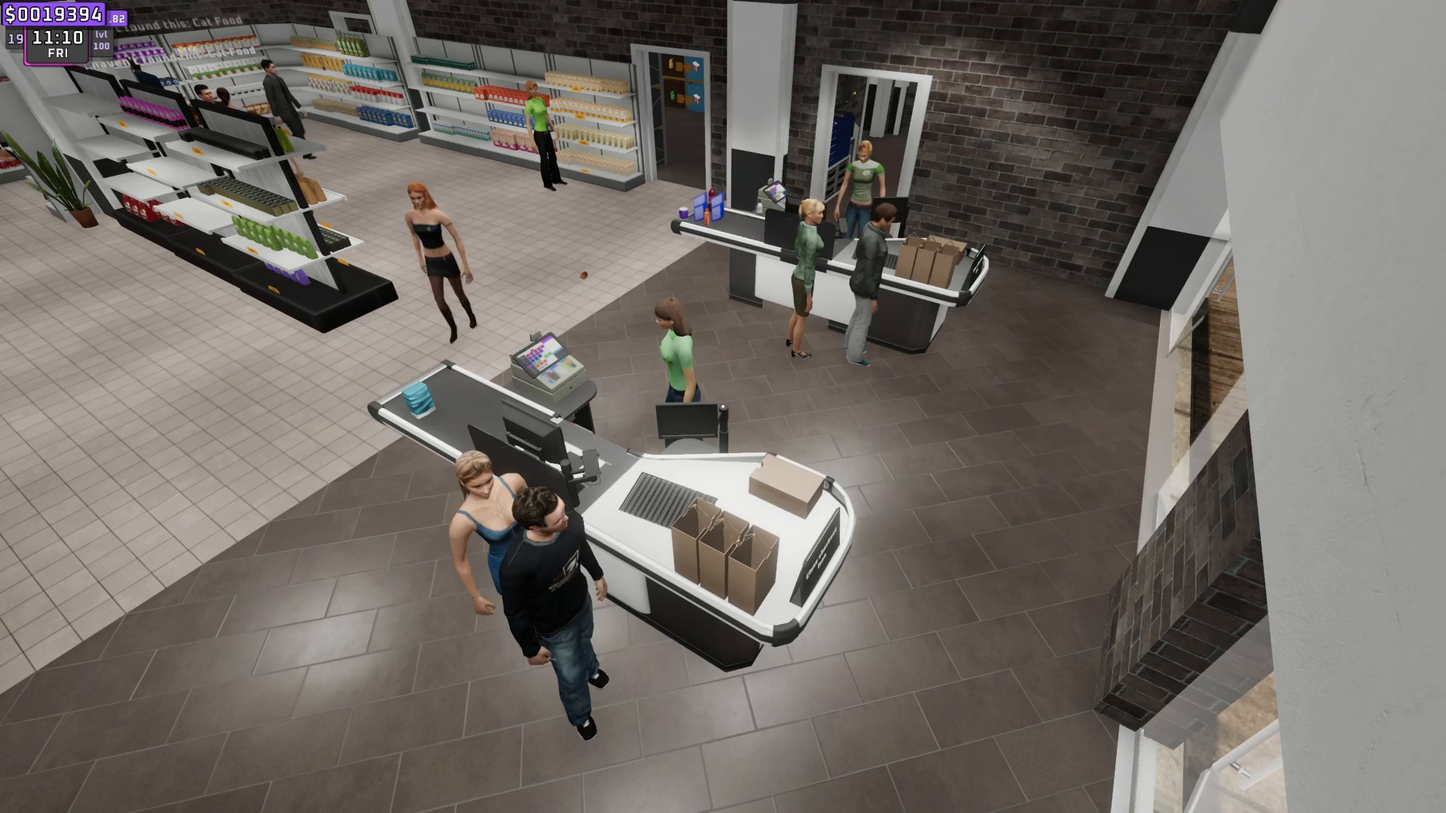Client: (509, 490, 621, 739), (451, 461, 548, 651), (393, 173, 485, 338), (854, 200, 894, 375), (788, 194, 820, 351)
Employee: (652, 297, 703, 401), (838, 129, 891, 228)
